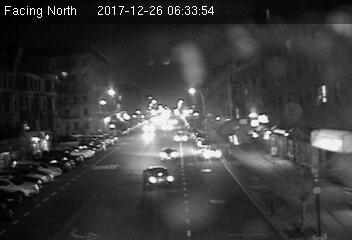car: (143, 165, 173, 187), (198, 146, 222, 162), (160, 147, 178, 160), (172, 131, 188, 143)
